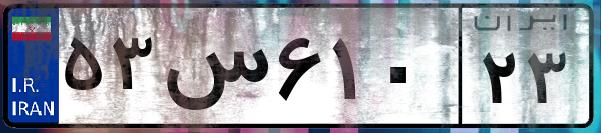0: (385, 28, 445, 110)
1: (330, 28, 385, 110)
2: (475, 38, 525, 113)
3: (525, 38, 570, 115), (110, 28, 158, 98)
5: (57, 26, 110, 100)
6: (270, 28, 330, 110)
س: (158, 20, 270, 120)
